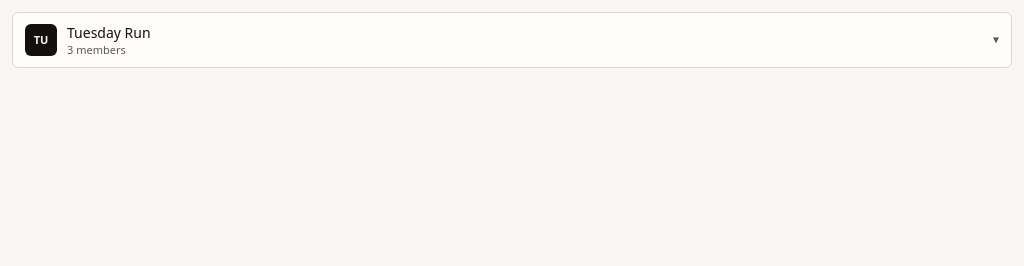
the squad list › lists every squad
The width and height of the screenshot is (1024, 266).
Click the button "TU Tuesday Run 3 members ▼".
click(41, 40)  # box [12,12,1012,68]
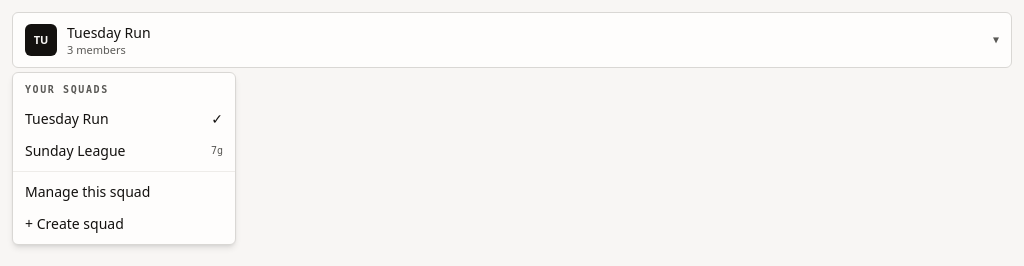
Expected: the text "Sunday League" is shown, [25,141,126,160]
